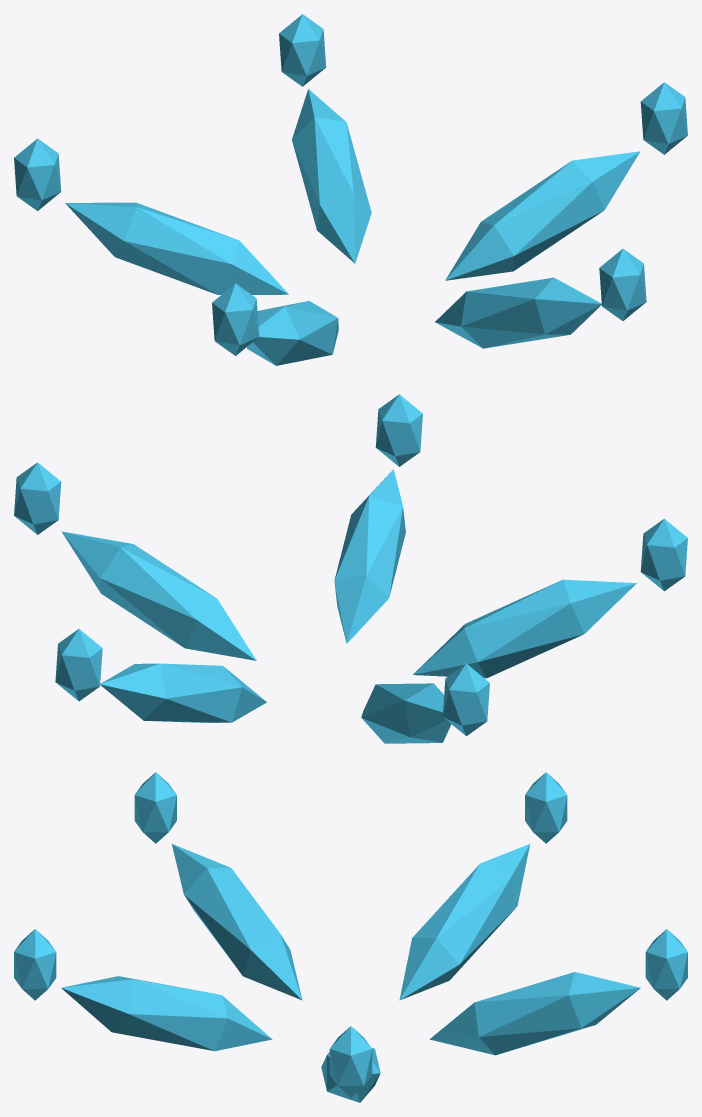
Rendered from Water.fbx.
The picture shows the model from 3 angles, top to bottom: view 1: azimuth 30°, elevation 25°; view 2: azimuth 150°, elevation 25°; view 3: azimuth 270°, elevation 25°; orthographic projection.
Visible parts, largest first — view 1: Water; view 2: Water; view 3: Water.
Boxes of the visible parts, box(x1,y1,x2,y2) form: Water: box(14, 14, 687, 365); Water: box(14, 394, 687, 743); Water: box(14, 772, 687, 1102).
Bounding box in the file's own units: 70.31 × 17.46 × 73.07.
